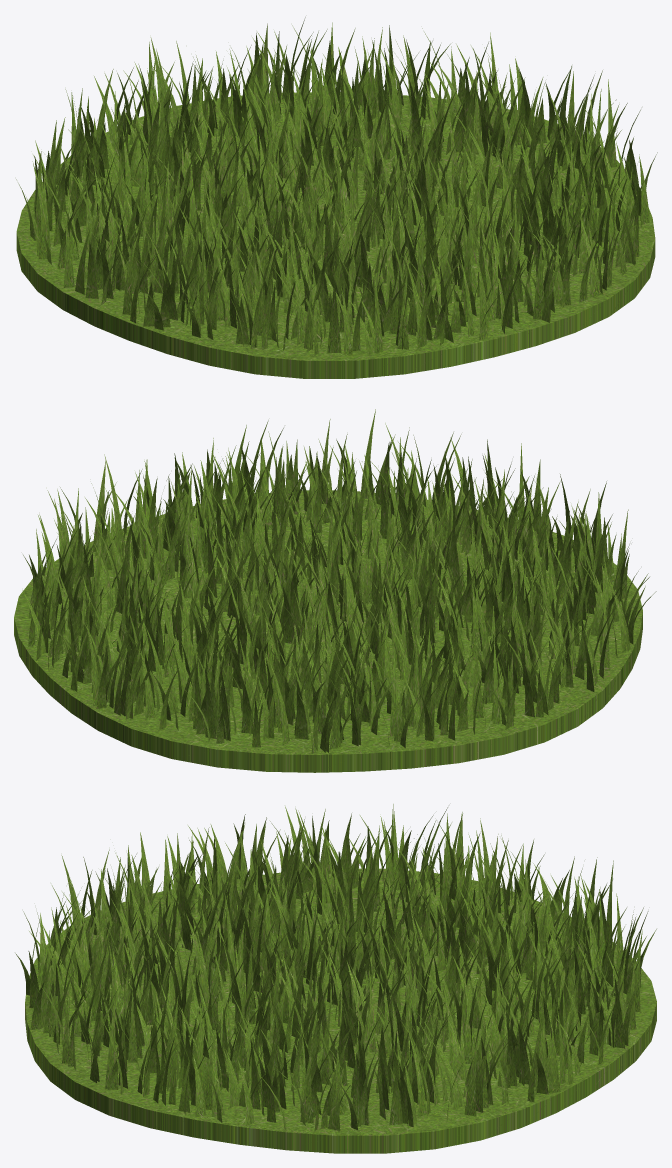
Rendered from Turf_Small.fbx.
The picture shows the model from 3 angles, top to bottom: view 1: azimuth 30°, elevation 25°; view 2: azimuth 150°, elevation 25°; view 3: azimuth 270°, elevation 25°; orthographic projection.
Visible parts, largest first — view 1: Turf_Small; view 2: Turf_Small; view 3: Turf_Small.
Part boxes in pixels (box(x1,y1,x2,y2)): Turf_Small: box(16, 17, 657, 378); Turf_Small: box(14, 409, 656, 772); Turf_Small: box(15, 804, 656, 1153).
Size of the model in its own units: 0.8085 by 0.14 by 0.8152.
Materials: 1 (1 with a texture image).
